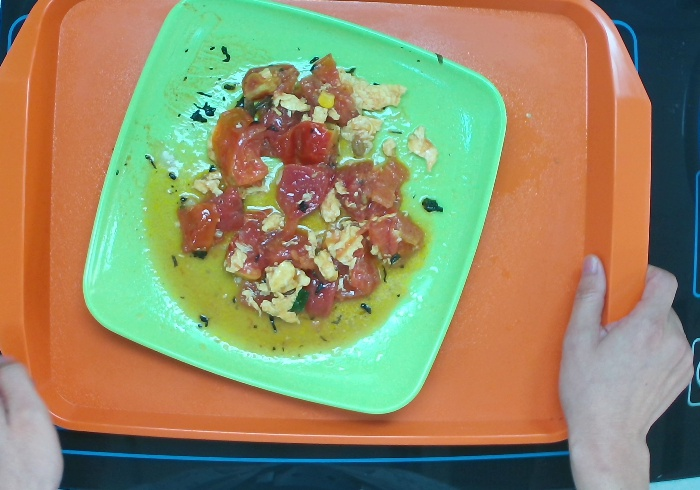ZNLD-Lv_Fang_Pan: (76, 1, 510, 417)
